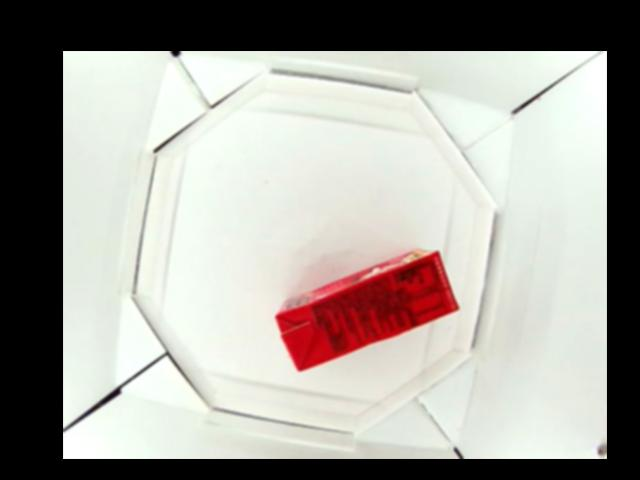Bottle: (272, 247, 457, 370)
